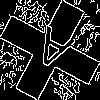A: (25, 25, 76, 81)
